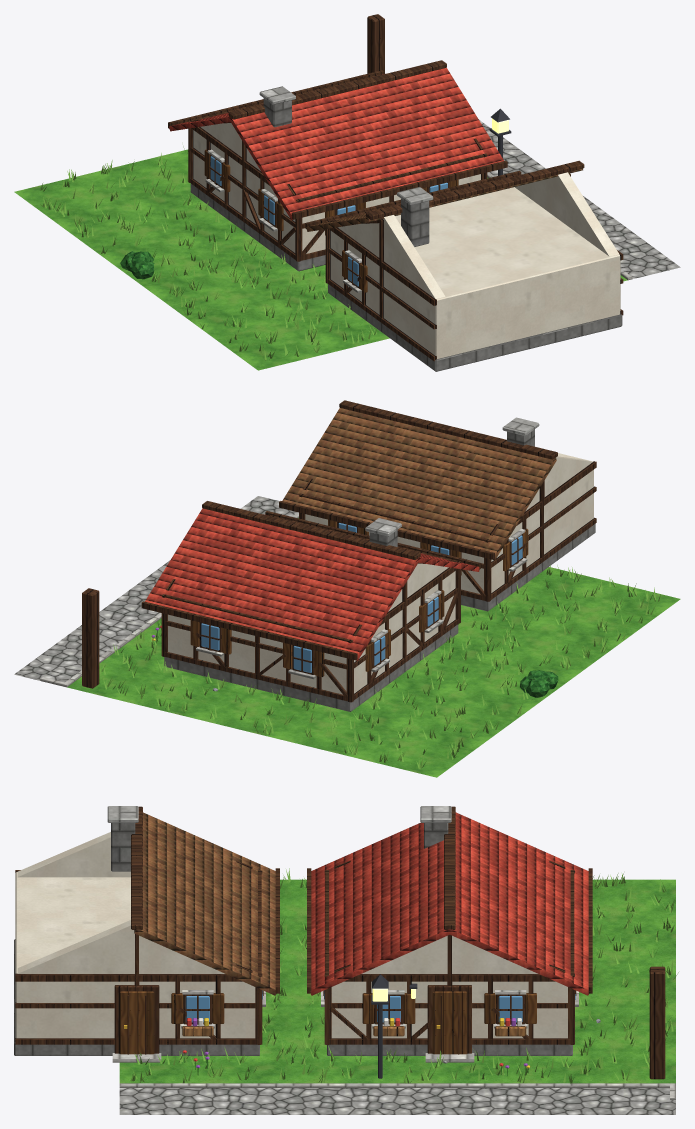
File: chunk_1_6.glb
3 renders of one model, top to bottom at view 1: azimuth 30°, elevation 25°; view 2: azimuth 150°, elevation 25°; view 3: azimuth 270°, elevation 25°, orthographic. The views are drawn at different scales.
Visible parts, largest first — view 1: chunk_1_6; view 2: chunk_1_6; view 3: chunk_1_6.
Boxes of the visible parts, <box> form: chunk_1_6: <box>14,14,680,371</box>; chunk_1_6: <box>14,400,680,777</box>; chunk_1_6: <box>14,806,678,1114</box>.
Bounding box in the file's own units: 16.09 × 4.97 × 19.19.
Materials: 23 (14 with a texture image).
